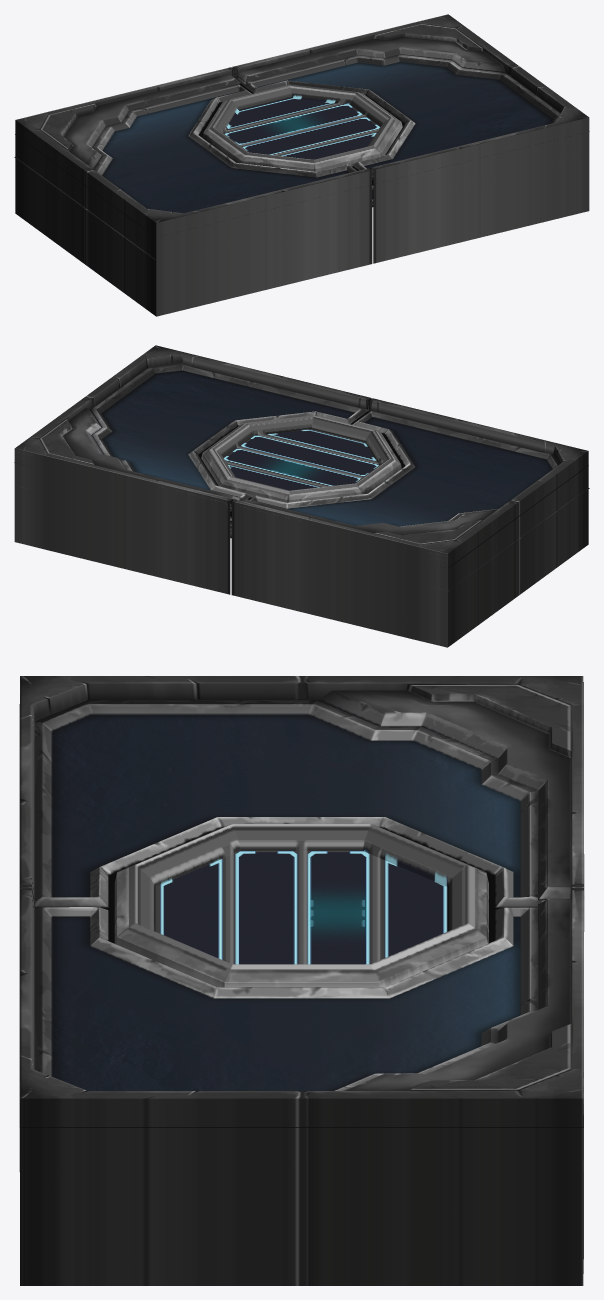
File: menu_1_3d.FBX
The picture shows the model from 3 angles, top to bottom: view 1: azimuth 30°, elevation 25°; view 2: azimuth 150°, elevation 25°; view 3: azimuth 270°, elevation 25°; orthographic projection. The views are drawn at different scales.
Visible parts, largest first — view 1: menu_1_border, menu_1_leftside, menu_1_rightside, menu_1_centre, Plane009; view 2: menu_1_border, menu_1_leftside, menu_1_rightside, menu_1_centre, Plane009; view 3: menu_1_border, menu_1_rightside, menu_1_leftside, menu_1_centre, Plane009.
Boxes of the visible parts, bbox=[...] form: menu_1_border: bbox=[15, 14, 589, 316]; menu_1_leftside: bbox=[234, 54, 560, 179]; menu_1_rightside: bbox=[92, 84, 356, 213]; menu_1_centre: bbox=[202, 84, 402, 171]; Plane009: bbox=[15, 83, 589, 237]; menu_1_border: bbox=[14, 345, 588, 647]; menu_1_leftside: bbox=[90, 363, 368, 511]; menu_1_rightside: bbox=[249, 410, 559, 526]; menu_1_centre: bbox=[201, 415, 401, 502]; Plane009: bbox=[14, 411, 588, 568]; menu_1_border: bbox=[20, 676, 584, 1285]; menu_1_rightside: bbox=[20, 699, 544, 908]; menu_1_leftside: bbox=[34, 907, 583, 1113]; menu_1_centre: bbox=[114, 824, 488, 987]; Plane009: bbox=[19, 704, 583, 1127].
Size of the model in its own units: 192 by 39.58 by 108.
2 materials, 1 textured.
